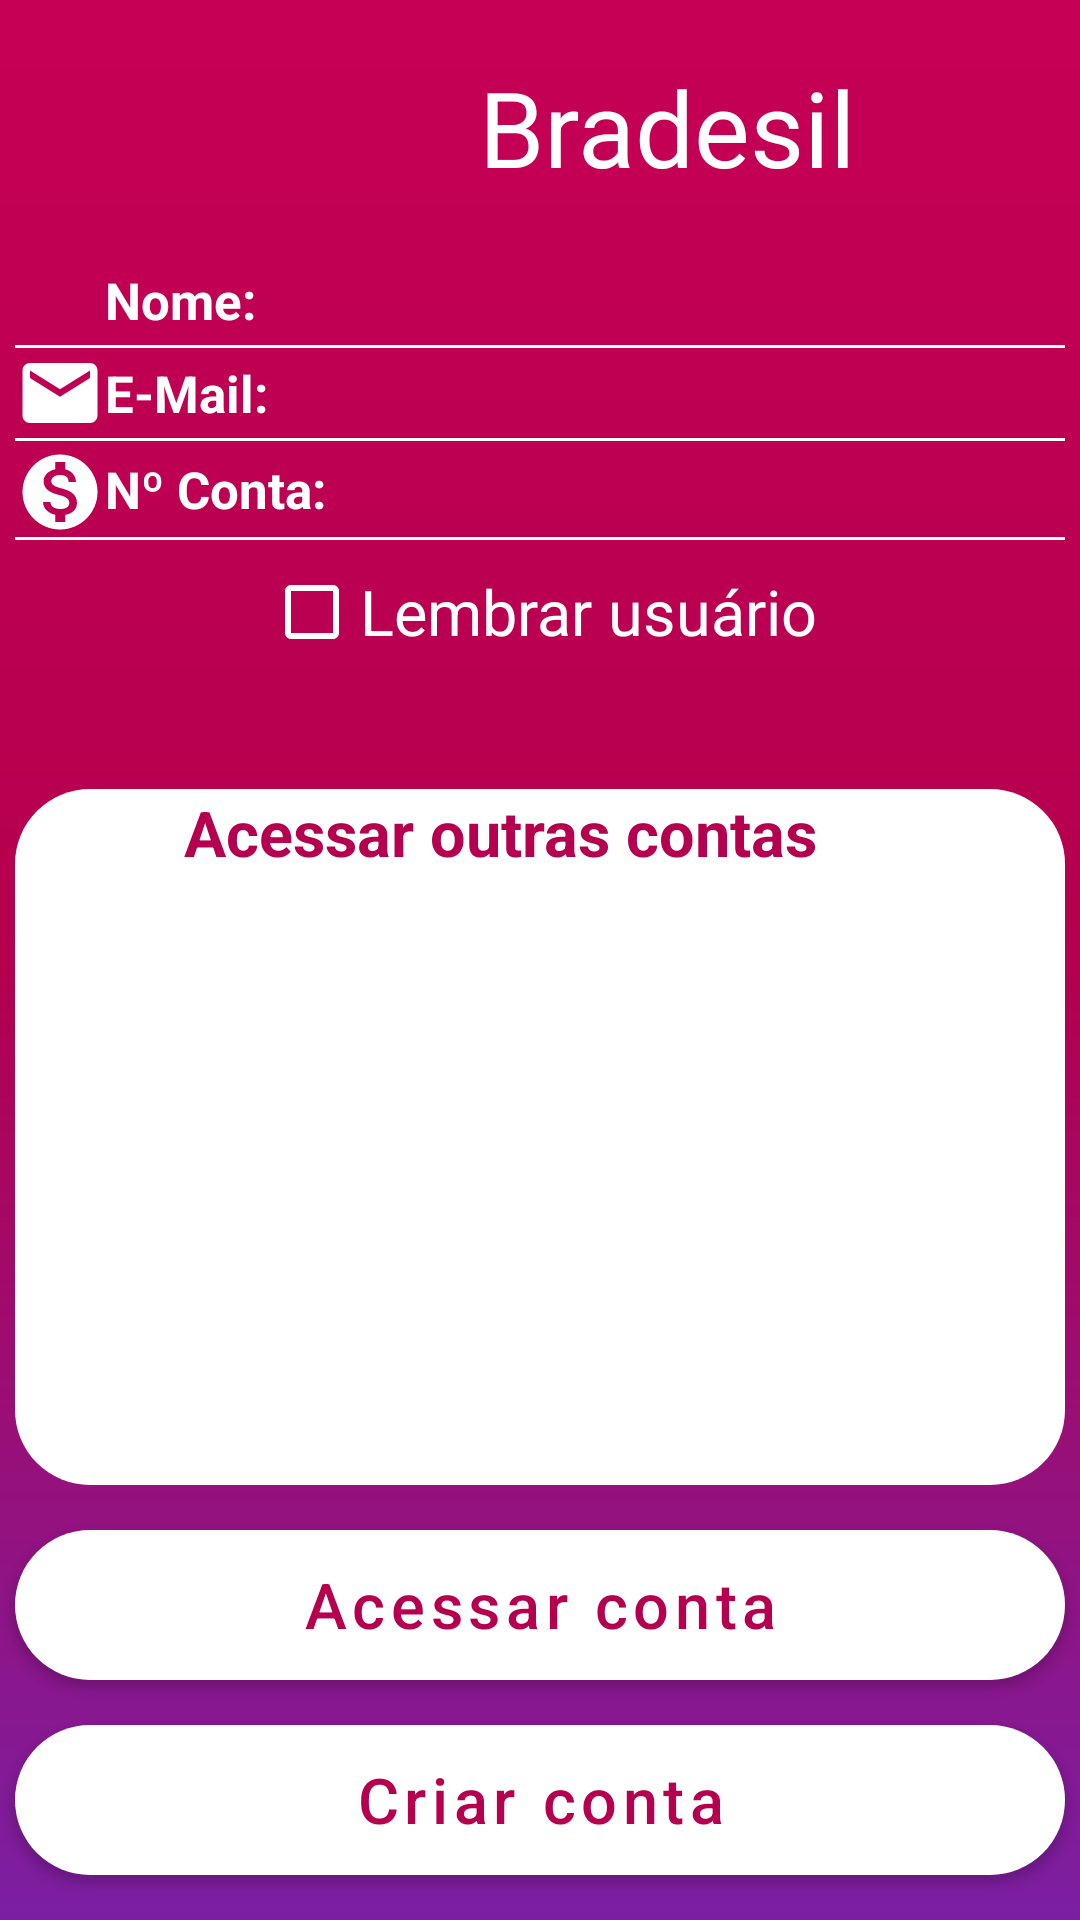

Where icons sit on this 1080w x 1920h app screen, as (x1, y1, x2, y2):
money account: (22, 454, 98, 530)
